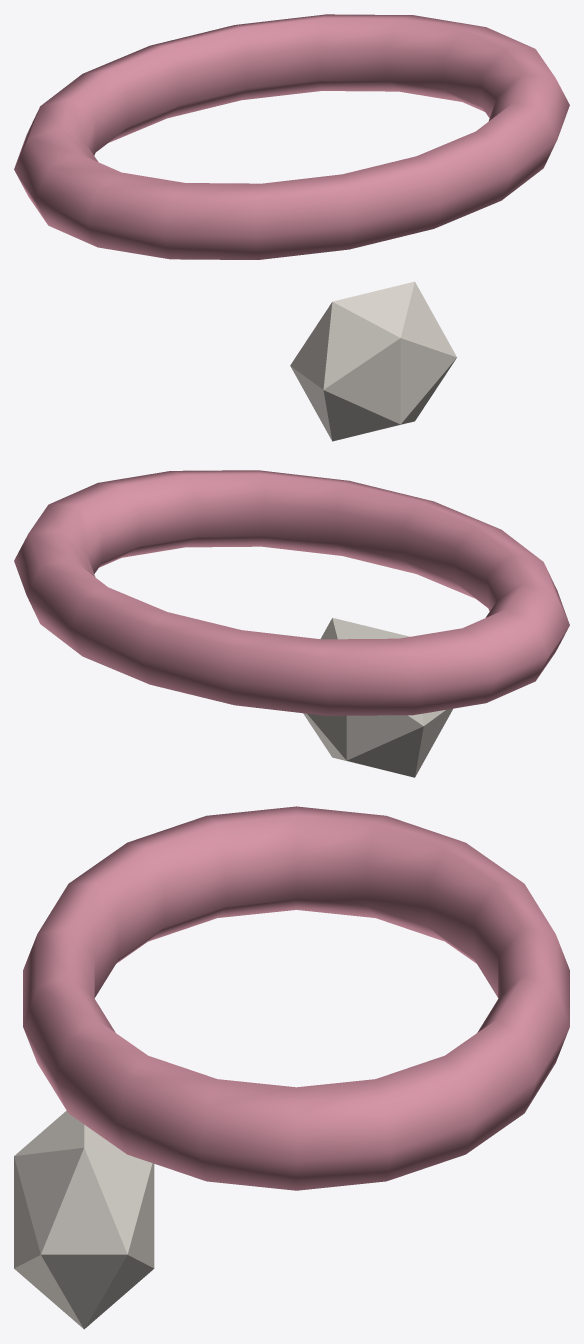
The model's file is wearable.glb.
3 views of the same model, one above another, from view 1: azimuth 30°, elevation 25°; view 2: azimuth 150°, elevation 25°; view 3: azimuth 270°, elevation 25° (orthographic). The views are drawn at different scales.
Parts seen in each view (by area): view 1: wearable_band, wearable_charm; view 2: wearable_band, wearable_charm; view 3: wearable_band, wearable_charm.
Boxes of the visible parts, x1,y1,x2,y2 form: wearable_band: (14,14,569,259); wearable_charm: (290,281,456,441); wearable_band: (14,470,569,715); wearable_charm: (303,618,452,777); wearable_band: (23,806,569,1190); wearable_charm: (14,1110,154,1329).
Size of the model in its own units: 0.654 by 0.3289 by 0.4714.
